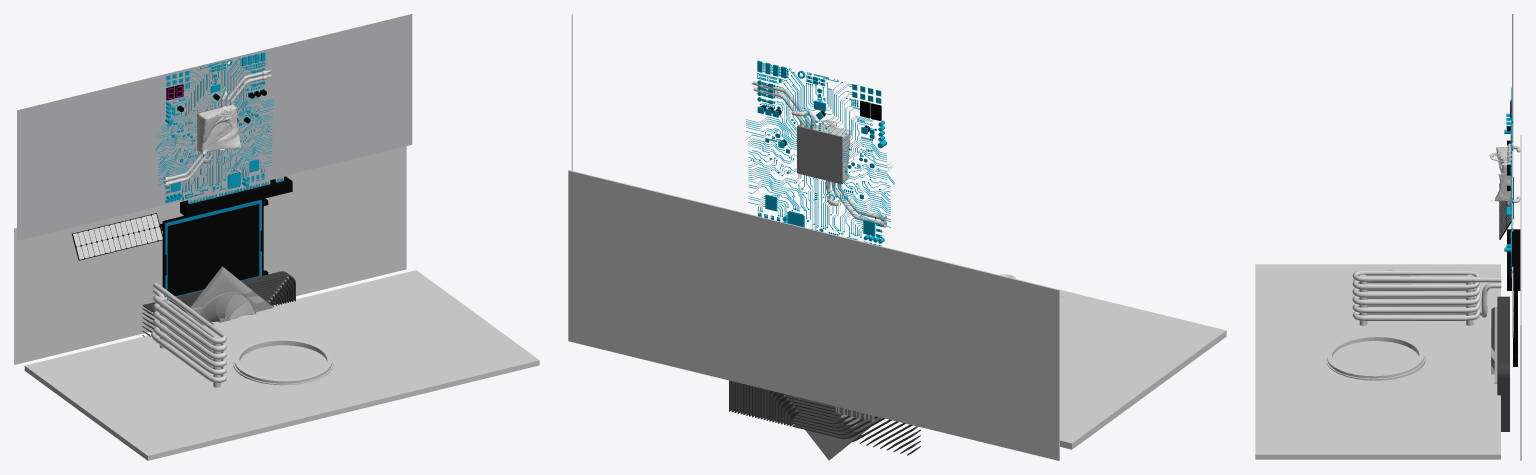
File: wk_circuit_draco.gltf
The picture shows the model from 3 angles, left to right: view 1: azimuth 30°, elevation 25°; view 2: azimuth 150°, elevation 25°; view 3: azimuth 270°, elevation 25°; orthographic projection. The views are drawn at different scales.
Visible parts, largest first — view 1: pcb:PIV, floorPlate:PIV, backboard:PIV, screens:PIV, circuits:PIV, waterPipes:PIV, cells:PIV, heatShield:PIV, floorRings:PIV, pcie_slot:PIV, fan_low_shield:PIV, fan_low_fan:PIV (+4 smaller); view 2: backboard:PIV, floorPlate:PIV, circuits:PIV, heatShield:PIV, cpubackplate:PIV, chips:PIV, fan_low_shield:PIV; view 3: floorPlate:PIV, waterPipes:PIV, heatShield:PIV, floorRings:PIV, pcie_slot:PIV, backboard:PIV, pcb:PIV, fan_low_shield:PIV, rack:PIV, screenFrame:PIV, caps:PIV, cells:PIV.
Boxes of the visible parts, bbox=[...] form: pcb:PIV: bbox=[17, 14, 412, 240]; floorPlate:PIV: bbox=[24, 270, 539, 460]; backboard:PIV: bbox=[14, 146, 406, 364]; screens:PIV: bbox=[166, 84, 259, 296]; circuits:PIV: bbox=[155, 54, 283, 203]; waterPipes:PIV: bbox=[151, 282, 227, 382]; cells:PIV: bbox=[73, 214, 162, 259]; heatShield:PIV: bbox=[142, 271, 295, 336]; floorRings:PIV: bbox=[233, 338, 333, 385]; pcie_slot:PIV: bbox=[180, 176, 292, 217]; fan_low_shield:PIV: bbox=[186, 266, 273, 318]; fan_low_fan:PIV: bbox=[194, 292, 256, 325]; backboard:PIV: bbox=[568, 170, 1059, 460]; floorPlate:PIV: bbox=[1060, 290, 1226, 449]; circuits:PIV: bbox=[745, 63, 894, 246]; heatShield:PIV: bbox=[729, 380, 920, 455]; cpubackplate:PIV: bbox=[797, 126, 842, 184]; chips:PIV: bbox=[757, 60, 875, 236]; fan_low_shield:PIV: bbox=[784, 394, 881, 460]; floorPlate:PIV: bbox=[1255, 264, 1500, 459]; waterPipes:PIV: bbox=[1352, 270, 1501, 320]; heatShield:PIV: bbox=[1497, 296, 1509, 431]; floorRings:PIV: bbox=[1325, 335, 1425, 380]; pcie_slot:PIV: bbox=[1507, 229, 1520, 290]; backboard:PIV: bbox=[1520, 135, 1521, 460]; pcb:PIV: bbox=[1512, 14, 1513, 334]; fan_low_shield:PIV: bbox=[1491, 307, 1497, 383]; rack:PIV: bbox=[1359, 274, 1473, 325]; screenFrame:PIV: bbox=[1513, 291, 1517, 366]; caps:PIV: bbox=[1504, 113, 1511, 251]; cells:PIV: bbox=[1499, 201, 1511, 237].
Size of the model in its own units: 360 by 274 by 211.
